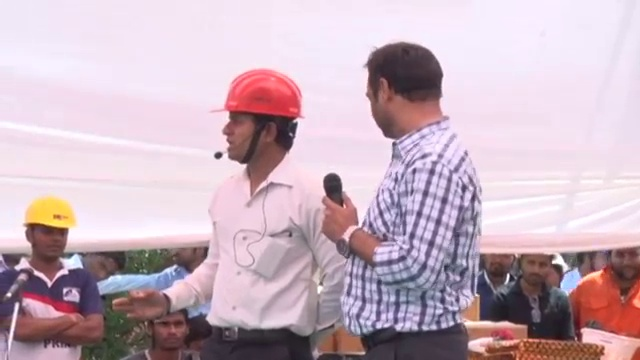helmet: (204, 69, 312, 126), (21, 198, 78, 235), (578, 328, 640, 359)
helmet_off: (362, 40, 455, 134), (142, 305, 193, 350), (76, 252, 126, 285), (519, 251, 557, 290), (605, 245, 640, 282), (483, 251, 515, 284), (161, 246, 198, 272), (320, 177, 349, 205)
helmet_on: (204, 69, 312, 177), (16, 202, 78, 274)
person: (121, 71, 348, 360), (320, 30, 493, 360), (0, 198, 105, 356), (486, 253, 575, 336), (578, 247, 640, 336), (473, 249, 519, 316)
